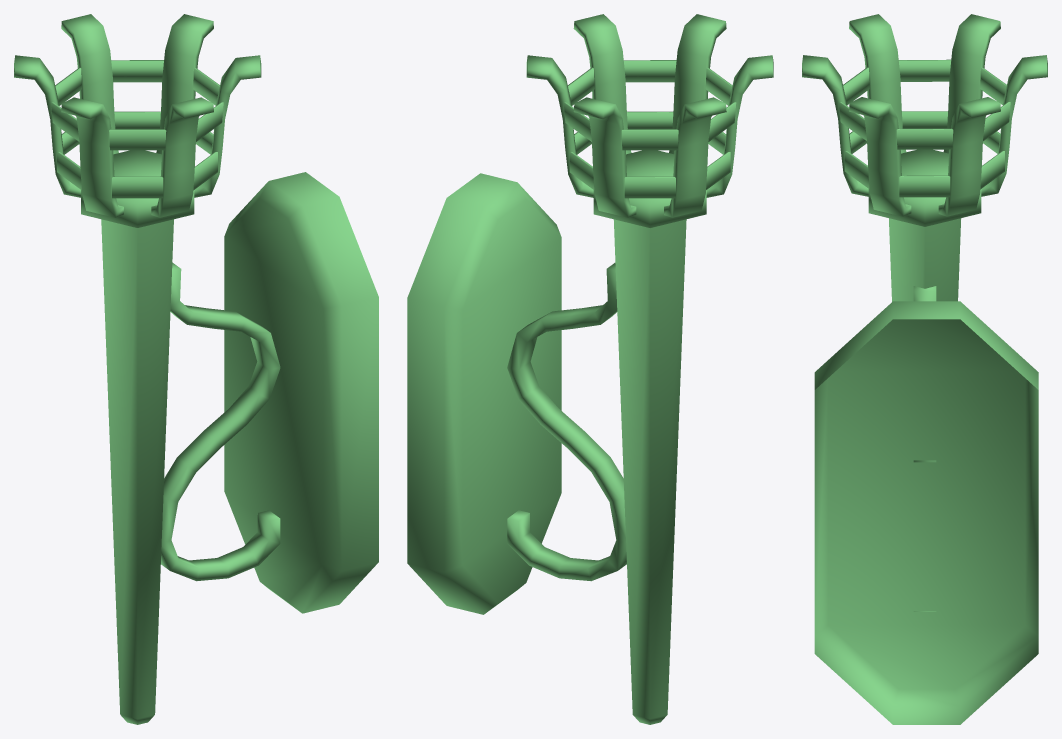
The model's file is torche.fbx.
3 renders of one model, left to right at view 1: azimuth 30°, elevation 25°; view 2: azimuth 150°, elevation 25°; view 3: azimuth 270°, elevation 25°, orthographic.
Parts seen in each view (by area): view 1: torche_low; view 2: torche_low; view 3: torche_low.
Part boxes in pixels (box(x1,y1,x2,y2)): torche_low: box(14, 14, 378, 724); torche_low: box(407, 14, 773, 724); torche_low: box(802, 14, 1047, 724).
Bounding box in the file's own units: 29.32 × 64.8 × 21.96.
